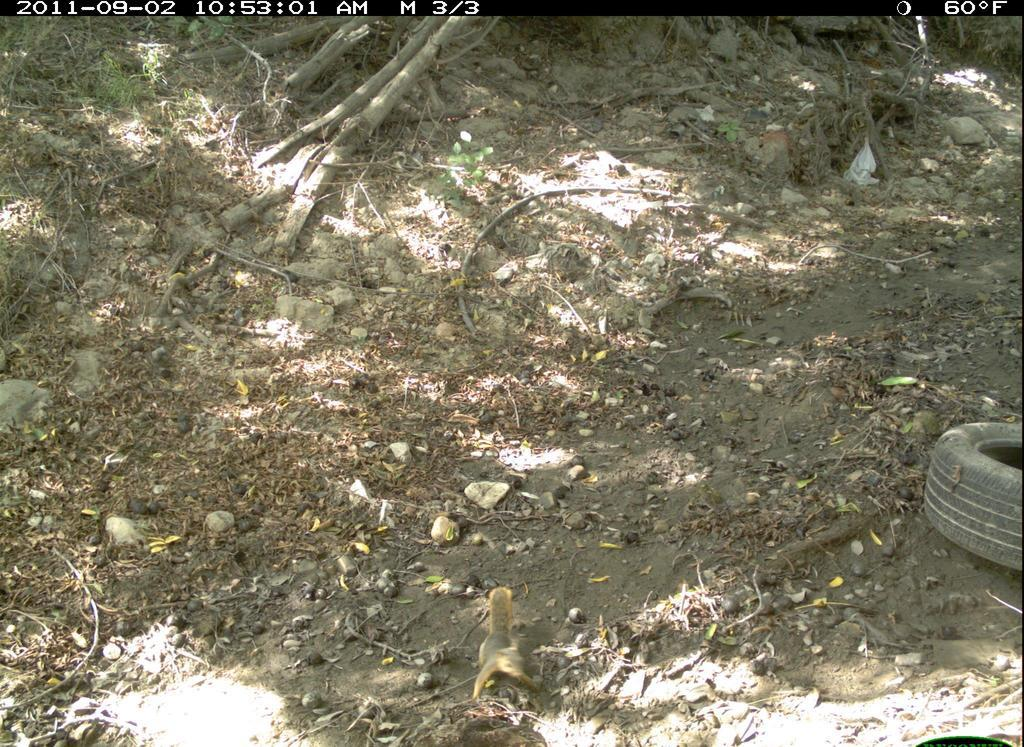squirrel: (469, 580, 545, 711)
